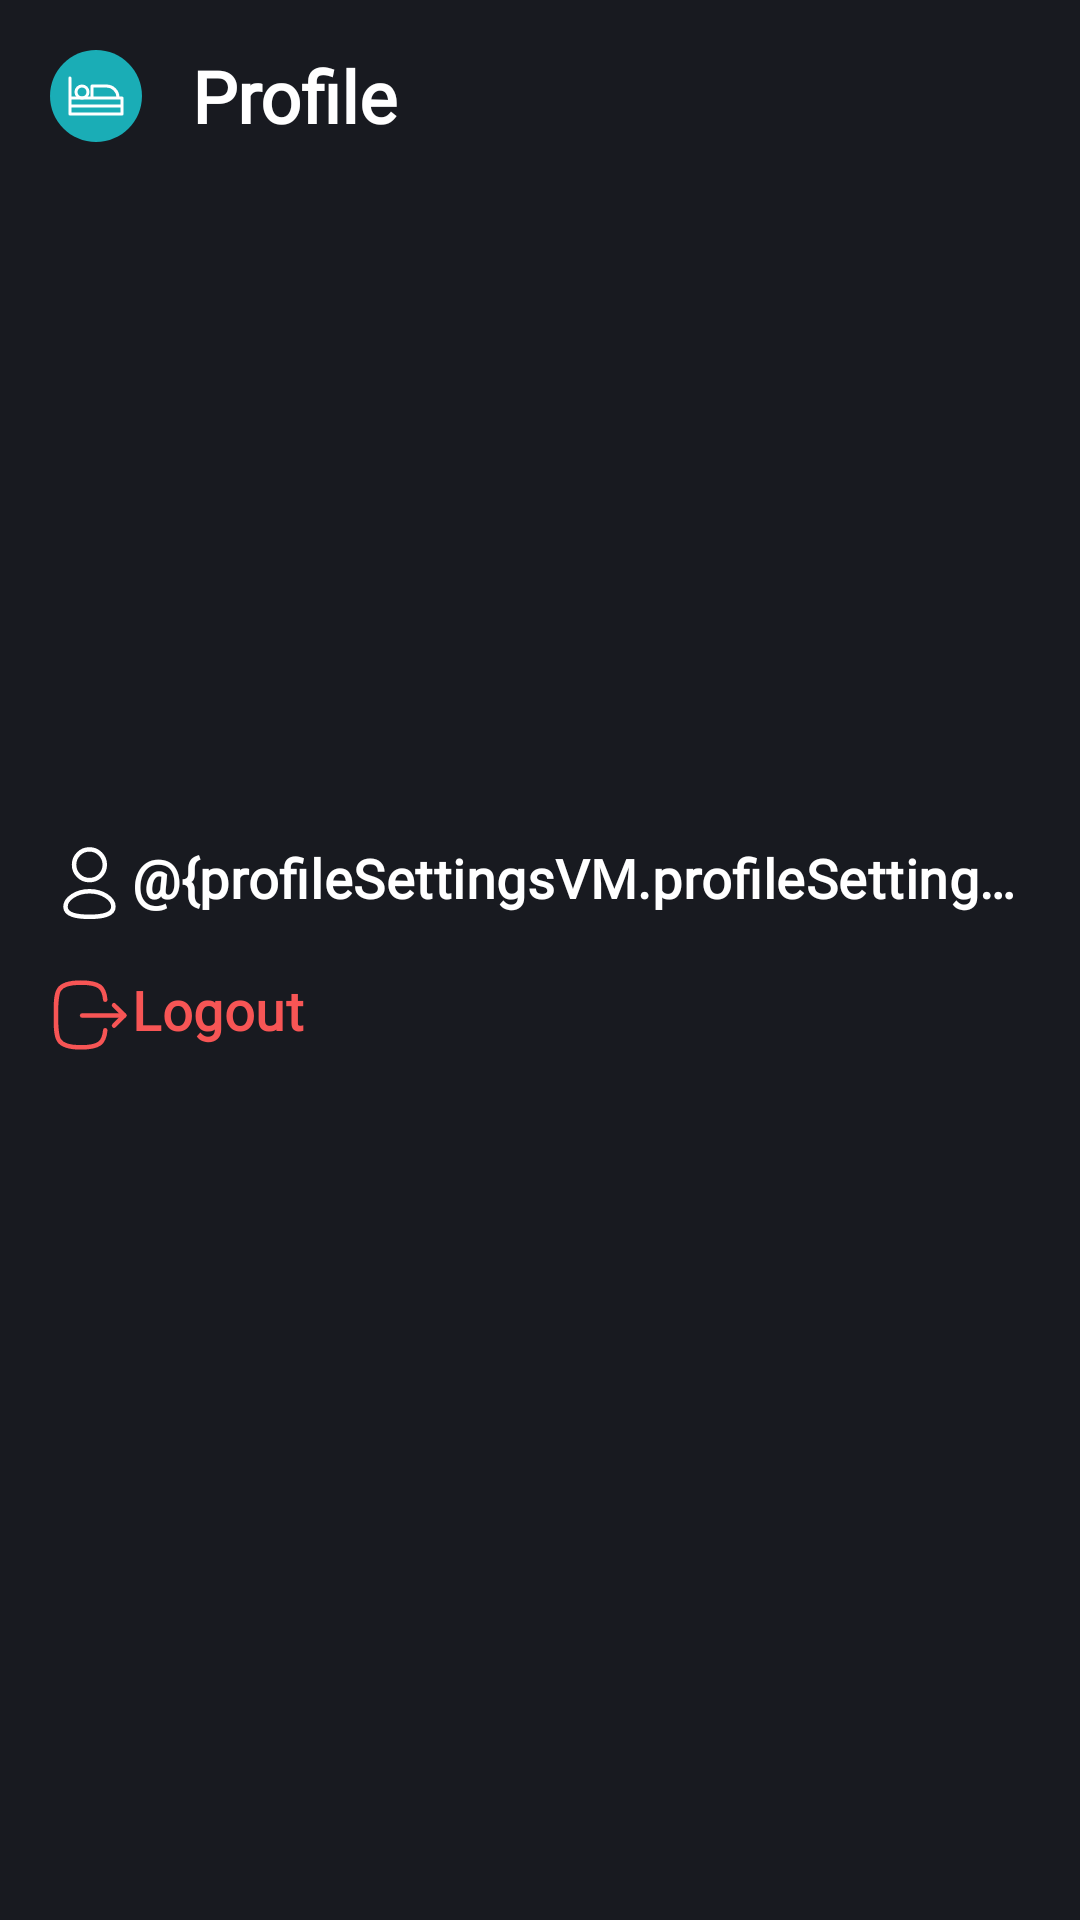

Where icons sit on this 1080*1920 app screen, as [x1,y1,x2,y2]:
user: [63,847,116,919]
